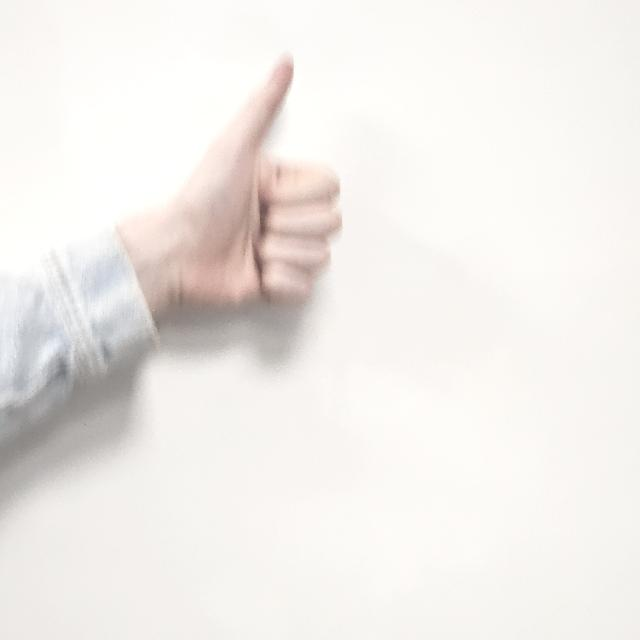Start: (156, 59, 346, 314)
